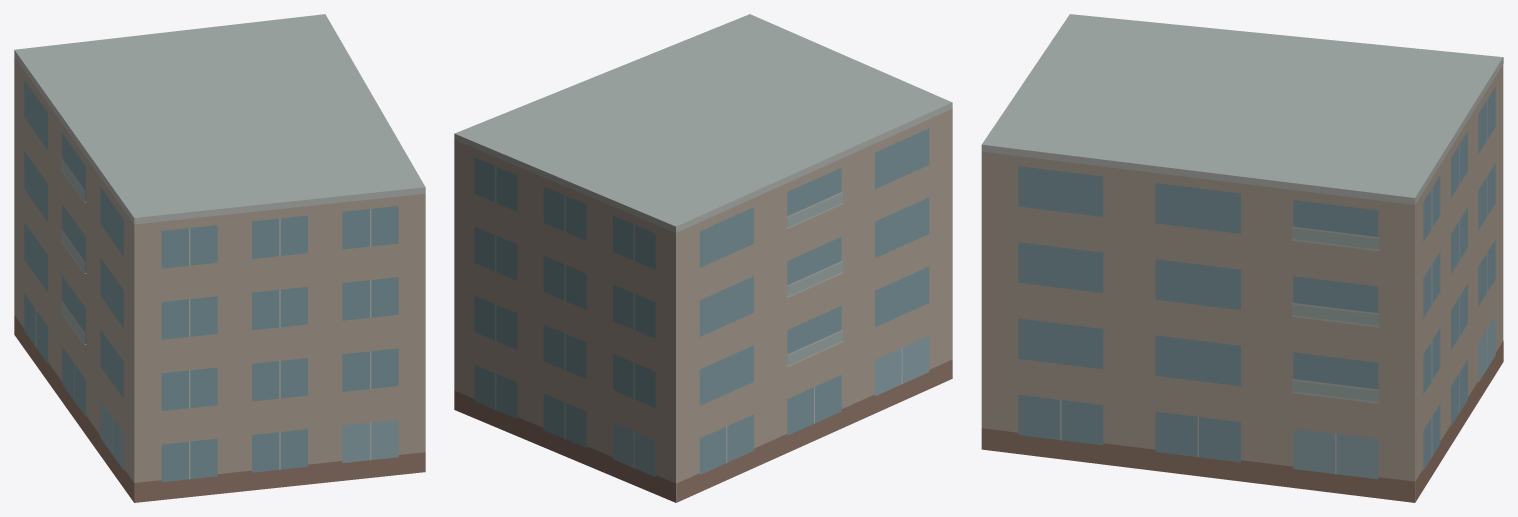
The model's file is survey-upis-32496830.glb.
The picture shows the model from 3 angles, left to right: view 1: azimuth 30°, elevation 25°; view 2: azimuth 150°, elevation 25°; view 3: azimuth 270°, elevation 25°; orthographic projection. The views are drawn at different scales.
Visible parts, largest first — view 1: survey-upis-32496830.tmp; view 2: survey-upis-32496830.tmp; view 3: survey-upis-32496830.tmp.
Part boxes in pixels (left/top/right/bottom): survey-upis-32496830.tmp: left=14, top=14, right=425, bottom=502; survey-upis-32496830.tmp: left=454, top=14, right=952, bottom=502; survey-upis-32496830.tmp: left=981, top=14, right=1503, bottom=502.
Bounding box in the file's own units: 13.93 × 10.75 × 16.69.
